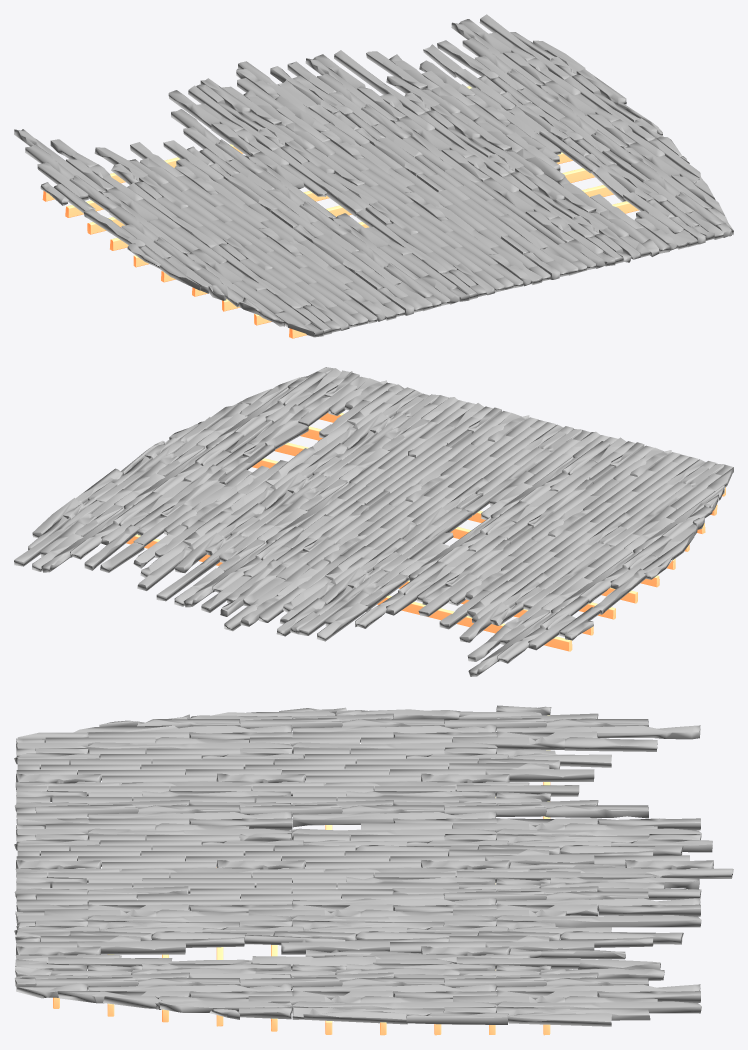
The model's file is SM_Floor_Officer.fbx.
3 views of the same model, one above another, from view 1: azimuth 30°, elevation 25°; view 2: azimuth 150°, elevation 25°; view 3: azimuth 270°, elevation 25° (orthographic). The views are drawn at different scales.
Visible parts, largest first — view 1: SM_Floor_Officer_LOD0; view 2: SM_Floor_Officer_LOD0; view 3: SM_Floor_Officer_LOD0.
Part boxes in pixels (bbox=[...]): SM_Floor_Officer_LOD0: bbox=[14, 14, 733, 338]; SM_Floor_Officer_LOD0: bbox=[14, 367, 733, 676]; SM_Floor_Officer_LOD0: bbox=[14, 705, 733, 1035].
Bounding box in the file's own units: 1089 × 1057 × 40.13.
